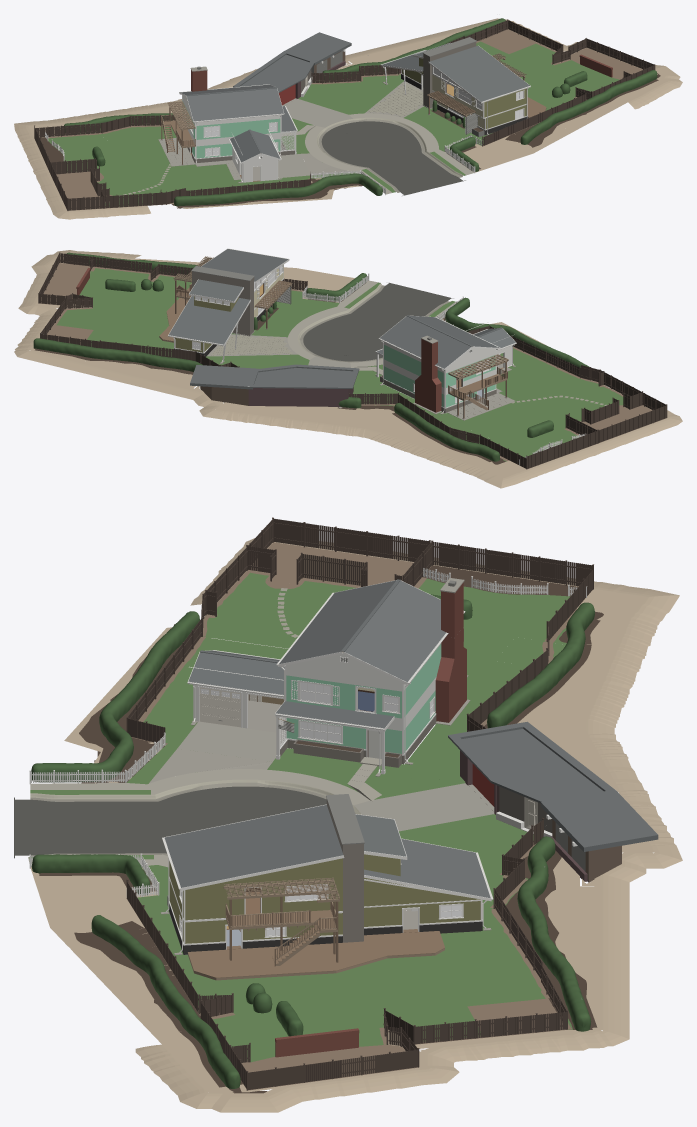
File: nuketown.glb
3 views of the same model, one above another, from view 1: azimuth 30°, elevation 25°; view 2: azimuth 150°, elevation 25°; view 3: azimuth 270°, elevation 25° (orthographic). The views are drawn at different scales.
Visible parts, largest first — view 1: terrain, houses, fences, hedges, structures; view 2: terrain, houses, fences, hedges, structures; view 3: terrain, houses, fences, hedges, structures.
Part boxes in pixels (x1=…): terrain: x1=14, y1=18, x2=682, y2=219; houses: x1=158, y1=37, x2=546, y2=182; fences: x1=34, y1=19, x2=655, y2=210; hedges: x1=64, y1=18, x2=657, y2=206; structures: x1=232, y1=32, x2=612, y2=154; terrain: x1=14, y1=250, x2=682, y2=488; houses: x1=159, y1=248, x2=516, y2=420; fences: x1=38, y1=252, x2=667, y2=469; hedges: x1=33, y1=252, x2=589, y2=461; structures: x1=41, y1=268, x2=514, y2=412; terrain: x1=14, y1=538, x2=682, y2=1112; houses: x1=160, y1=578, x2=493, y2=980; fences: x1=29, y1=517, x2=621, y2=1090; hedges: x1=31, y1=594, x2=594, y2=1088; structures: x1=168, y1=627, x2=658, y2=1057.
Bounding box in the file's own units: 98.7 × 10.58 × 48.33.
